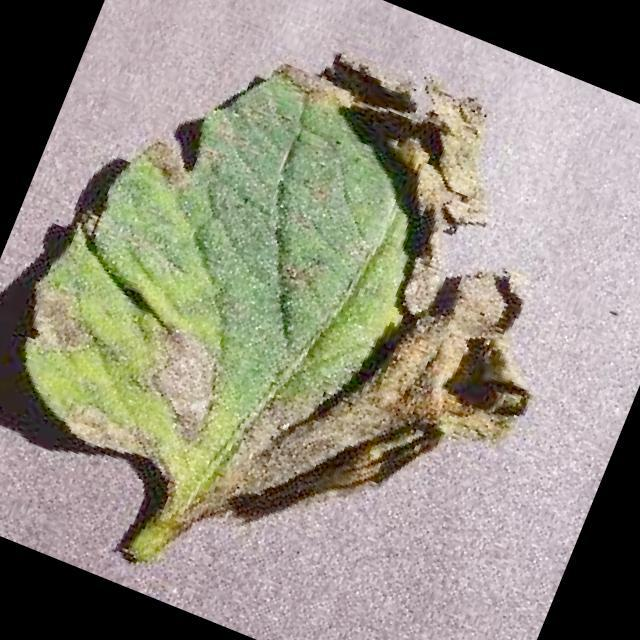Tomato Early blight leaf: (0, 0, 629, 597)
